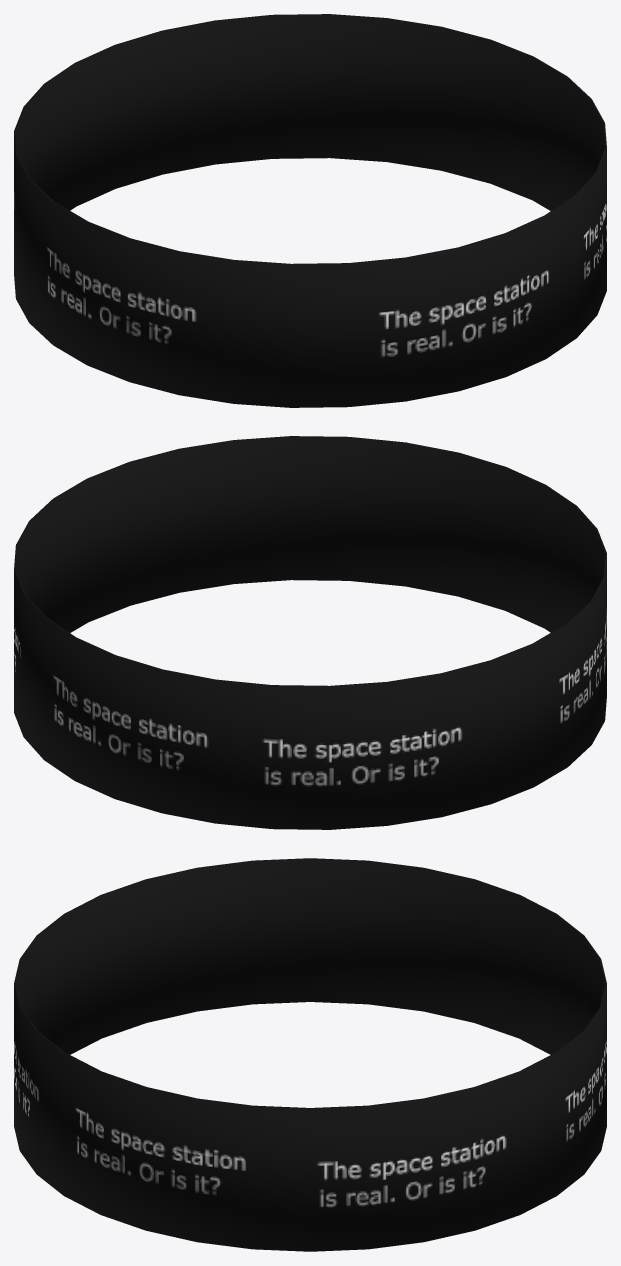
The model's file is LoreWall.fbx.
3 views of the same model, one above another, from view 1: azimuth 30°, elevation 25°; view 2: azimuth 150°, elevation 25°; view 3: azimuth 270°, elevation 25° (orthographic).
Parts seen in each view (by area): view 1: Text_Wall_Test; view 2: Text_Wall_Test; view 3: Text_Wall_Test.
Part boxes in pixels (bbox=[...]): Text_Wall_Test: bbox=[14, 14, 606, 407]; Text_Wall_Test: bbox=[14, 436, 606, 829]; Text_Wall_Test: bbox=[14, 858, 606, 1251].
Bounding box in the file's own units: 3120 × 830 × 3120.
